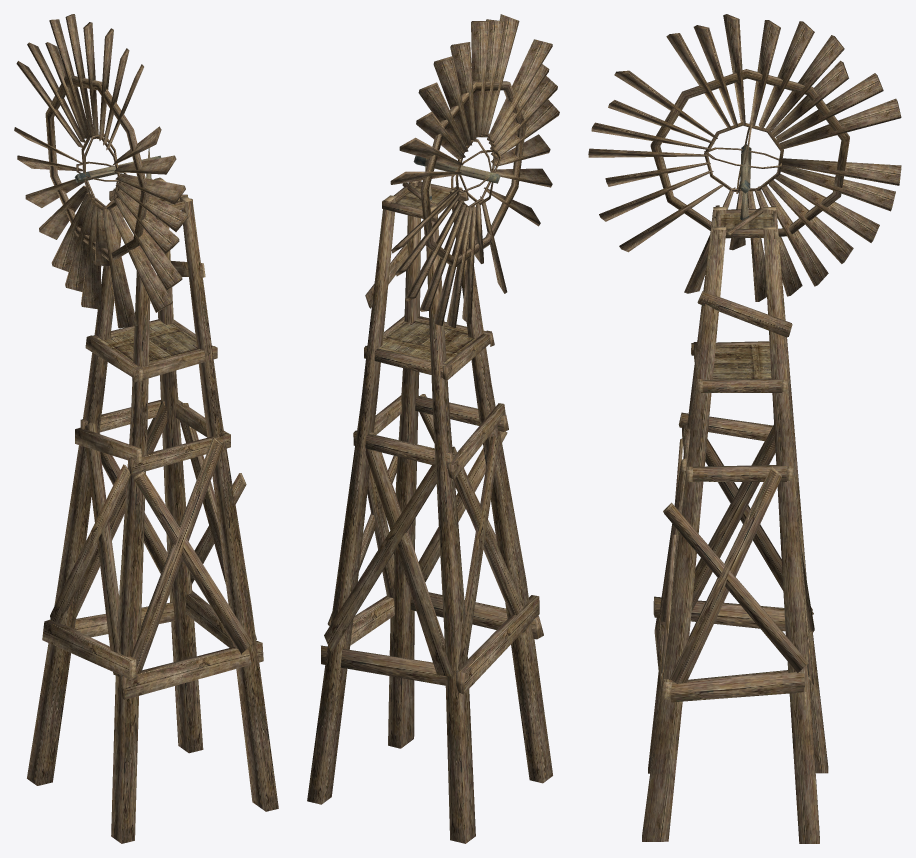
File: S_Build_West089_A.FBX
3 views of the same model, side by side, from view 1: azimuth 30°, elevation 25°; view 2: azimuth 150°, elevation 25°; view 3: azimuth 270°, elevation 25° (orthographic).
Visible parts, largest first — view 1: S_Build_West089_001, S_Build_West089_002; view 2: S_Build_West089_001, S_Build_West089_002; view 3: S_Build_West089_001, S_Build_West089_002.
Boxes of the visible parts, box(x1,y1,x2,y2) form: S_Build_West089_001: box(27, 148, 278, 843); S_Build_West089_002: box(14, 14, 188, 328); S_Build_West089_001: box(307, 155, 552, 843); S_Build_West089_002: box(390, 14, 559, 327); S_Build_West089_001: box(642, 144, 828, 843); S_Build_West089_002: box(588, 14, 901, 301).
Bounding box in the file's own units: 285 × 1303 × 483.
